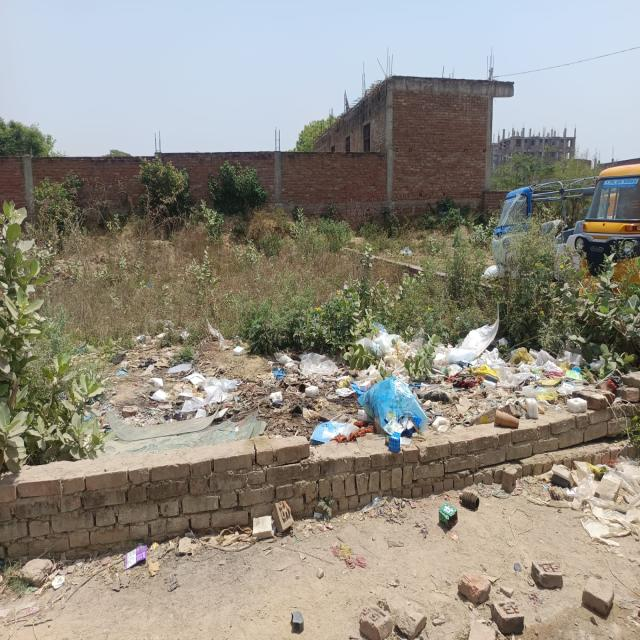Garbage: (141, 328, 602, 442)
